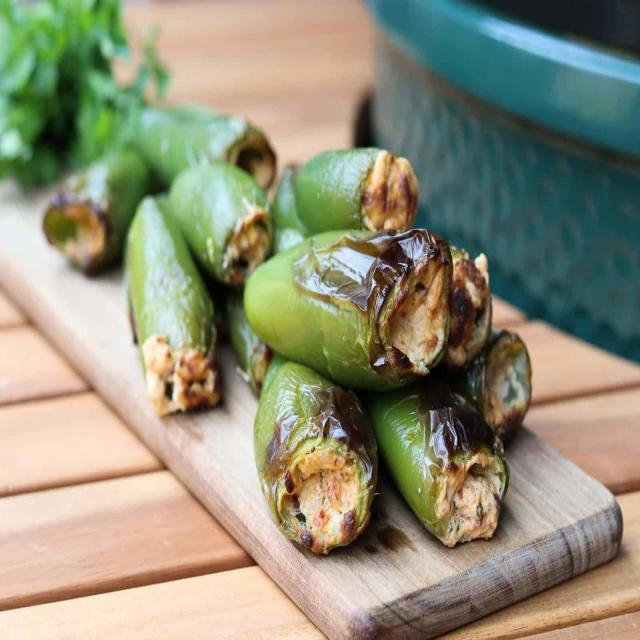aji: (76, 106, 512, 540)
